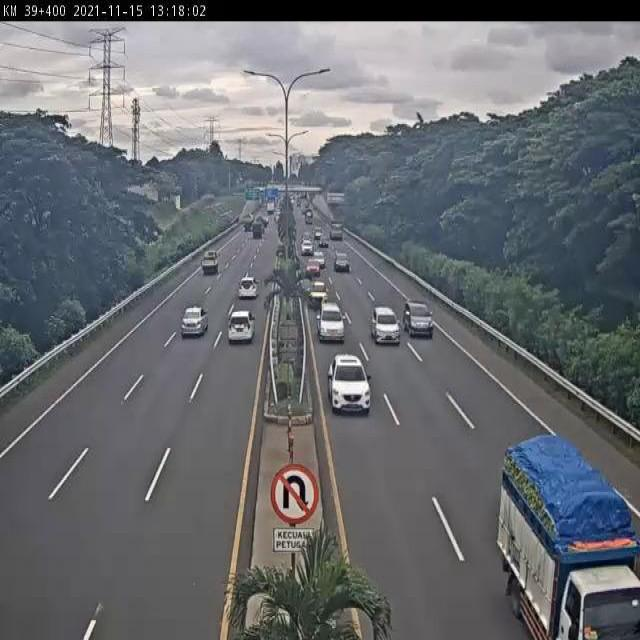car: (325, 349, 374, 416), (370, 300, 403, 348), (401, 296, 436, 339), (315, 297, 346, 344), (226, 307, 257, 345), (180, 303, 212, 337), (306, 280, 330, 307), (237, 274, 260, 302)
truck-s-: (200, 247, 223, 276)
